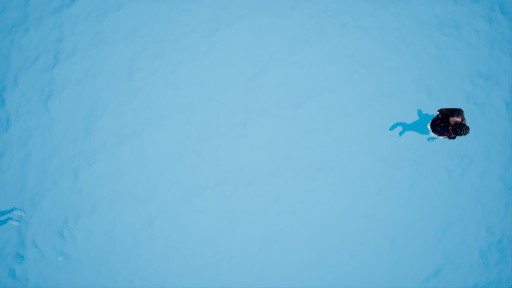person: (385, 106, 469, 145)
